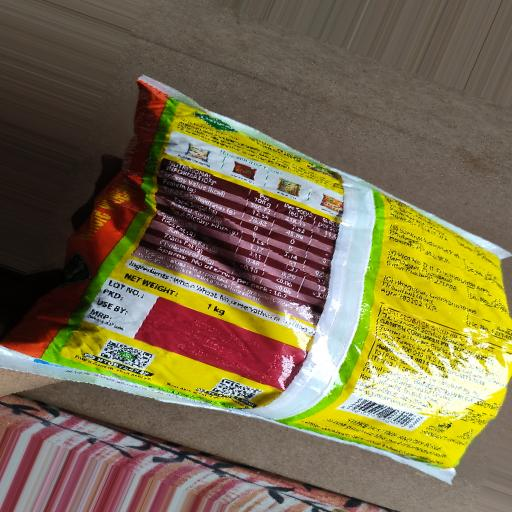Ganesh Atta: (3, 53, 512, 512)
